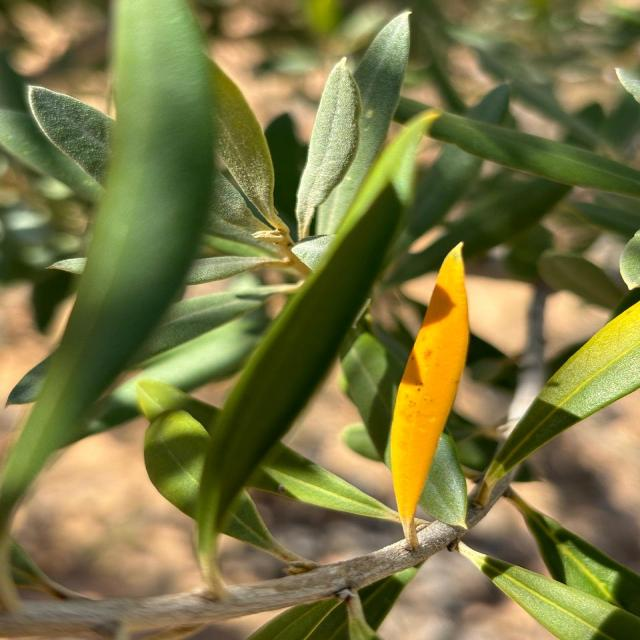Peacock Eye: (390, 242, 469, 548)
